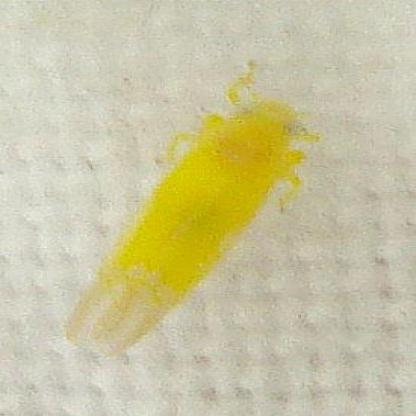green-leafhopper: (69, 59, 320, 354)
